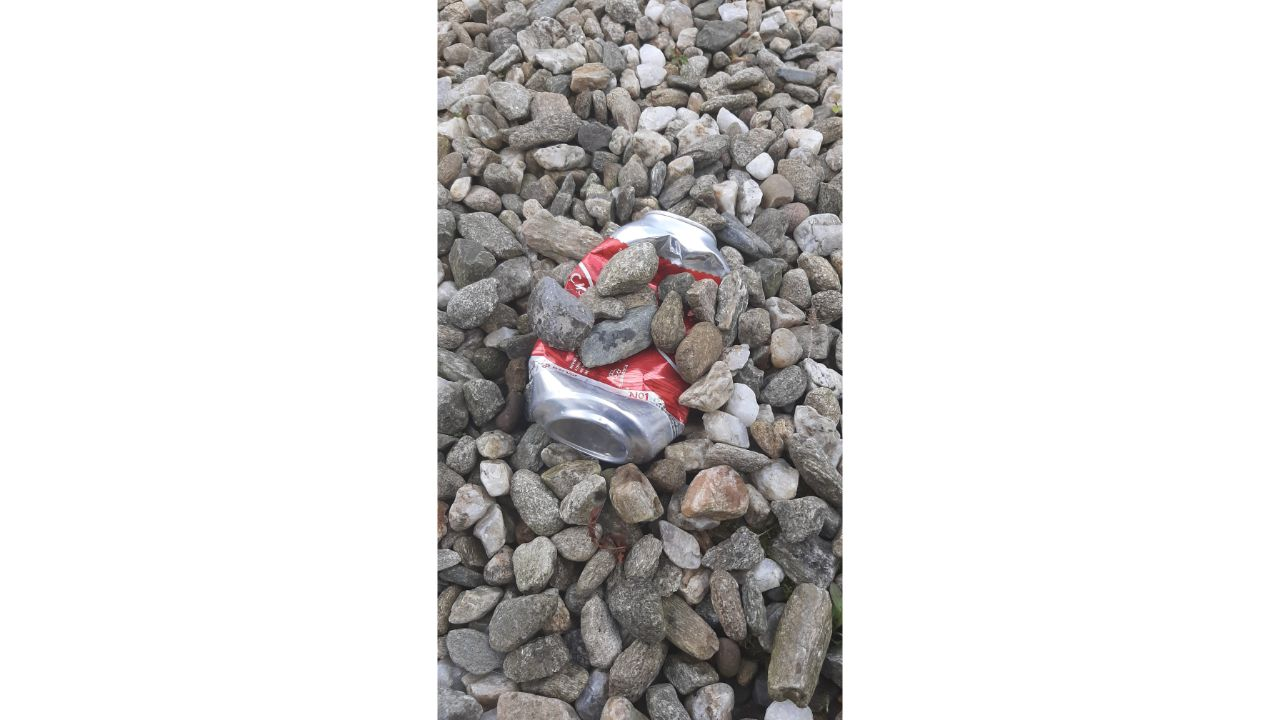Can: (508, 194, 750, 479)
